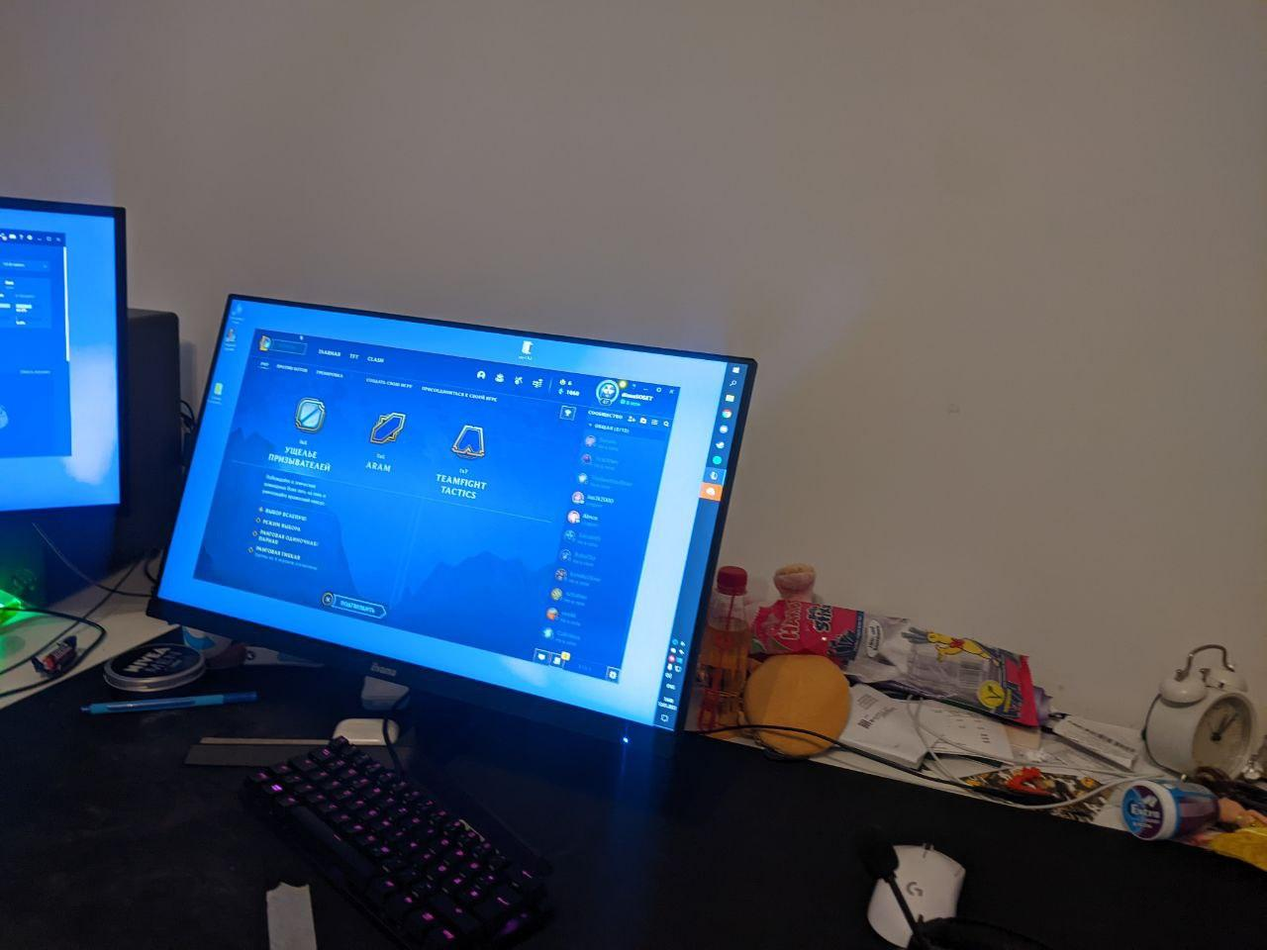monitor: (139, 287, 792, 770)
